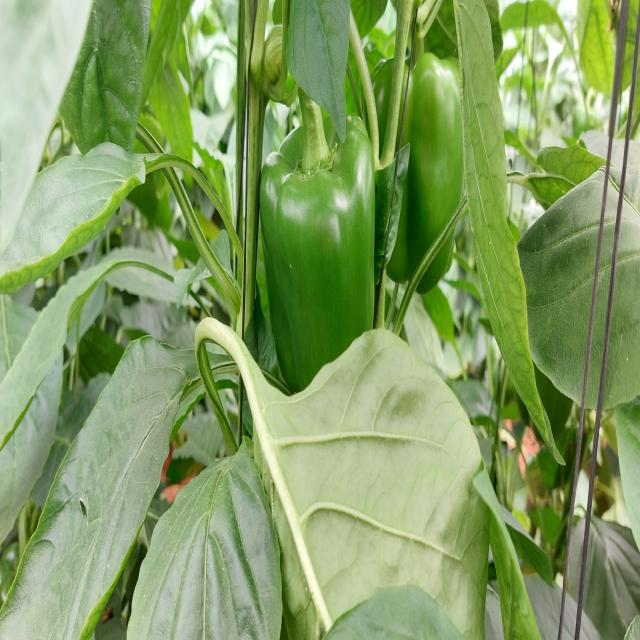Green--Not-ready-to-harvest: (255, 112, 374, 393), (365, 55, 468, 287)
